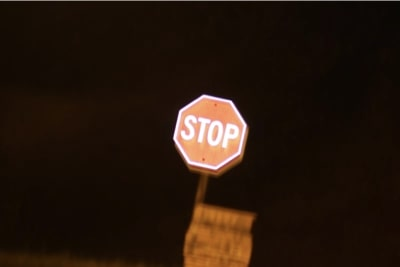StopSign: (171, 91, 250, 178)
